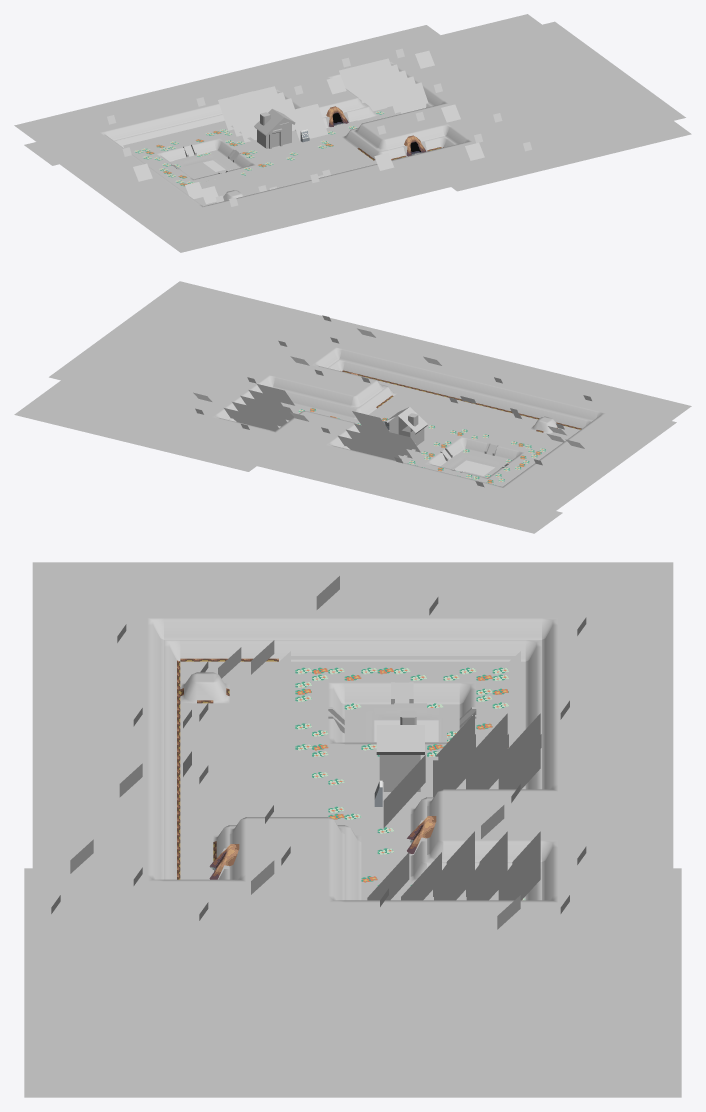
File: map.dae
The picture shows the model from 3 angles, top to bottom: view 1: azimuth 30°, elevation 25°; view 2: azimuth 150°, elevation 25°; view 3: azimuth 270°, elevation 25°; orthographic projection. The views are drawn at different scales.
Visible parts, largest first — view 1: m_dun0203_00_00c, m_dun0203_01_00c, nbc_h01; view 2: m_dun0203_00_00c, m_dun0203_01_00c, nbc_h01; view 3: m_dun0203_00_00c, m_dun0203_01_00c, nbc_h01.
Part boxes in pixels (x1,y1,x2,y2): m_dun0203_00_00c: (14,56,457,252); m_dun0203_01_00c: (299,14,691,191); nbc_h01: (254,109,297,151); m_dun0203_00_00c: (247,336,691,533); m_dun0203_01_00c: (14,281,406,471); nbc_h01: (386,407,427,445); m_dun0203_00_00c: (32,562,673,869); m_dun0203_01_00c: (24,831,681,1097); nbc_h01: (367,710,426,797).
Bounding box in the file's own units: 1160 × 640 × 127.
